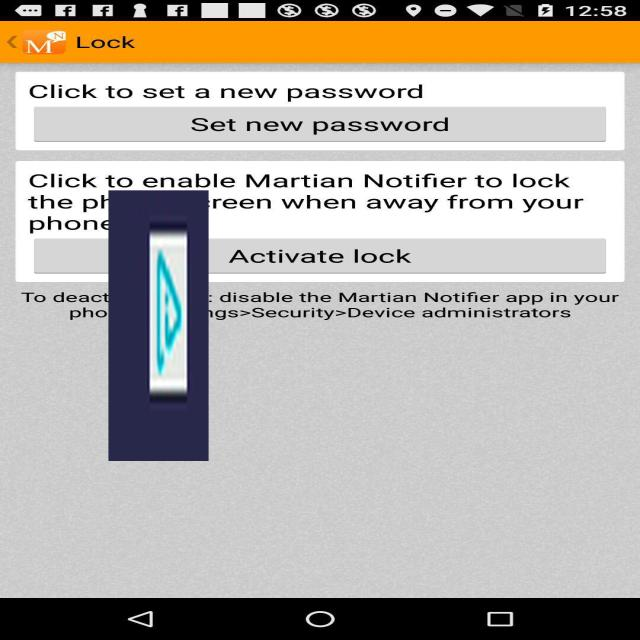sneaking: (108, 190, 208, 461)
